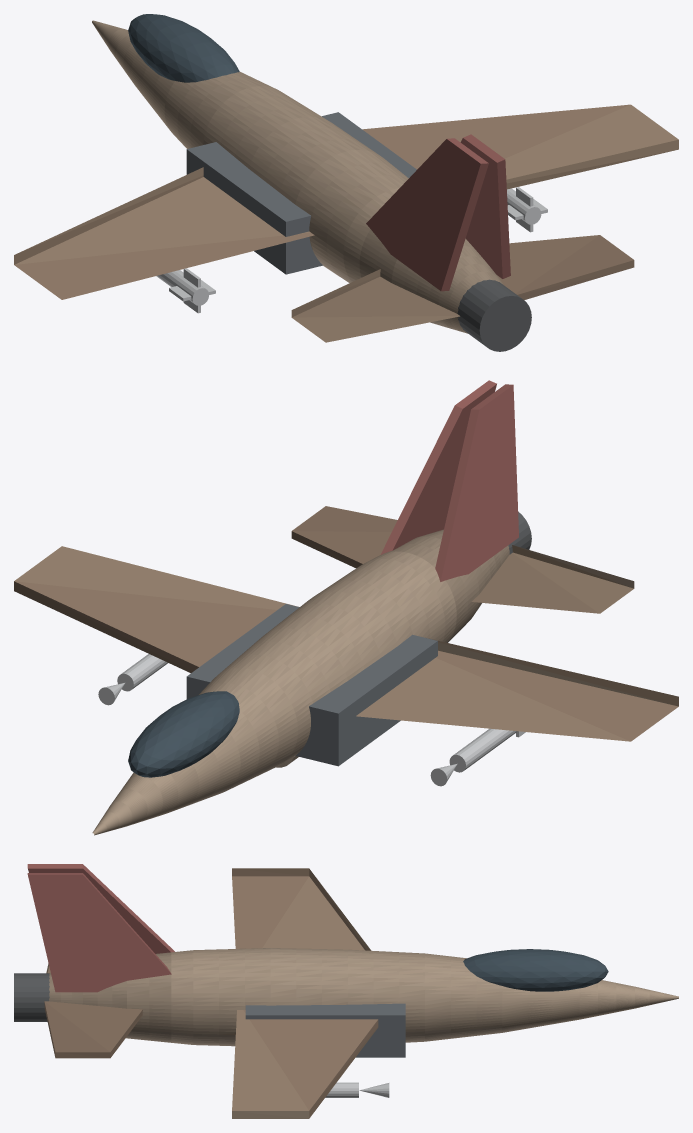
The model's file is enemy_fighter_real.glb.
3 views of the same model, one above another, from view 1: azimuth 30°, elevation 25°; view 2: azimuth 150°, elevation 25°; view 3: azimuth 270°, elevation 25° (orthographic). The views are drawn at different scales.
Visible parts, largest first — view 1: p0, p3, p2, p9, p5, p10, p4, p1, p6, p11, p7, p17 (+1 smaller); view 2: p0, p3, p2, p9, p10, p5, p1, p6, p4, p7, p17, p13; view 3: p0, p2, p6, p3, p1, p4, p7, p9, p11, p13.
Boxes of the visible parts, box(x1,y1,x2,y2) form: p0: box(92, 20, 503, 333); p3: box(14, 167, 314, 299); p2: box(362, 104, 678, 189); p9: box(366, 138, 488, 291); p5: box(291, 269, 459, 342); p10: box(186, 142, 322, 274); p4: box(497, 235, 634, 300); p1: box(128, 14, 239, 82); p6: box(460, 134, 510, 278); p11: box(457, 279, 531, 351); p7: box(322, 112, 416, 177); p17: box(156, 270, 208, 305); p0: box(92, 529, 509, 835); p3: box(356, 638, 678, 741); p2: box(14, 546, 298, 672); p9: box(435, 384, 518, 581); p10: box(295, 634, 437, 766); p5: box(472, 545, 634, 613); p1: box(128, 691, 239, 777); p6: box(380, 380, 496, 554); p4: box(291, 506, 397, 568); p7: box(186, 604, 299, 698); p17: box(449, 728, 517, 772); p13: box(117, 654, 167, 691); p0: box(49, 948, 678, 1046); p2: box(232, 1010, 378, 1118); p6: box(27, 873, 171, 992); p3: box(232, 868, 370, 950); p1: box(463, 949, 608, 991); p4: box(44, 1001, 142, 1058); p7: box(245, 1003, 405, 1057); p9: box(27, 864, 174, 953); p11: box(14, 973, 49, 1021); p13: box(325, 1082, 358, 1097).
Bounding box in the file's own units: 10.4 × 3.6 × 12.05.
